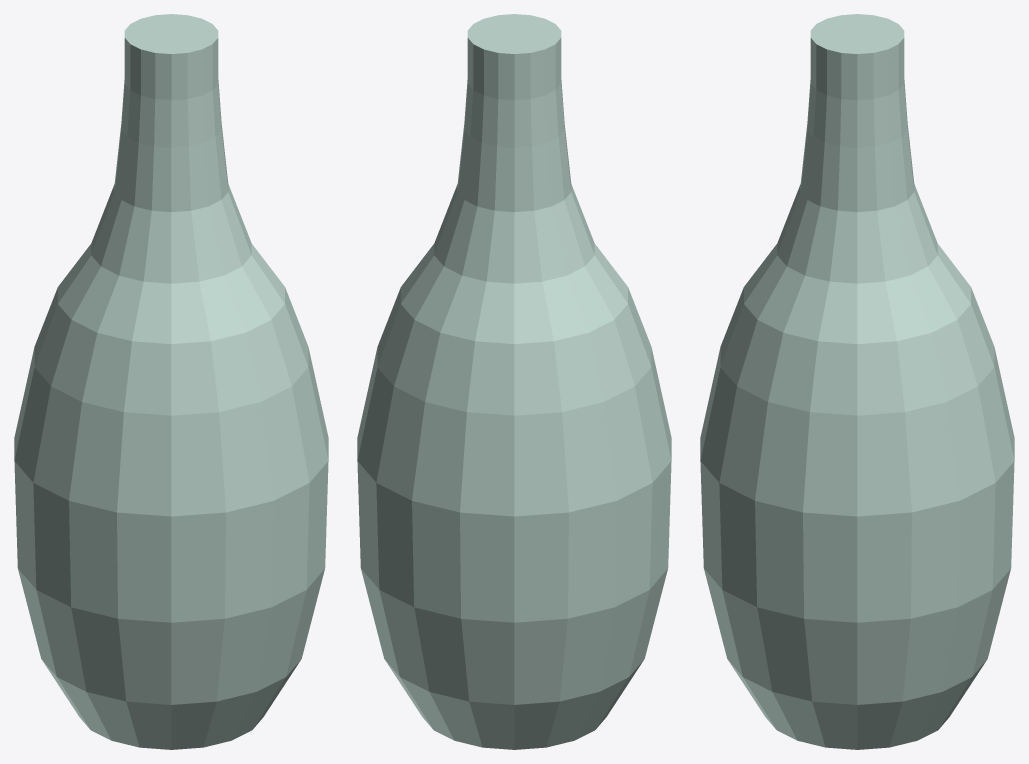
Rendered from grotto_message_in_bottle_LOD0_roblox.fbx.
The picture shows the model from 3 angles, left to right: view 1: azimuth 30°, elevation 25°; view 2: azimuth 150°, elevation 25°; view 3: azimuth 270°, elevation 25°; orthographic projection.
Visible parts, largest first — view 1: msg_Glass; view 2: msg_Glass; view 3: msg_Glass.
Boxes of the visible parts, <box> form: msg_Glass: <box>14,14,328,749</box>; msg_Glass: <box>357,14,671,749</box>; msg_Glass: <box>700,14,1014,749</box>.
Size of the model in its own units: 0.188 by 0.1851 by 0.44.
